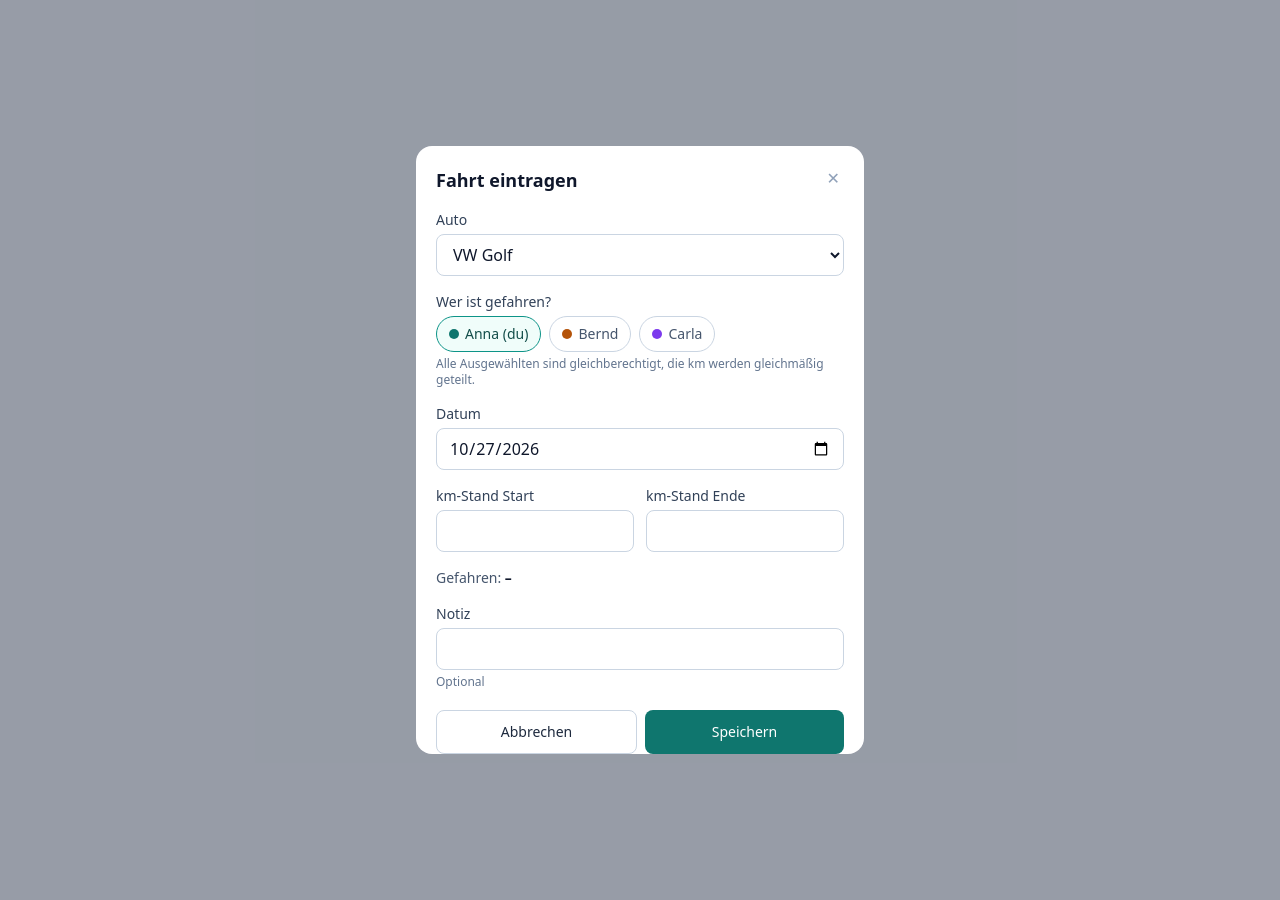
Test: adding a trip › refuses a trip without anyone on it
Click the button "Anna (du)".
click(489, 334)  # box [436, 316, 541, 352]
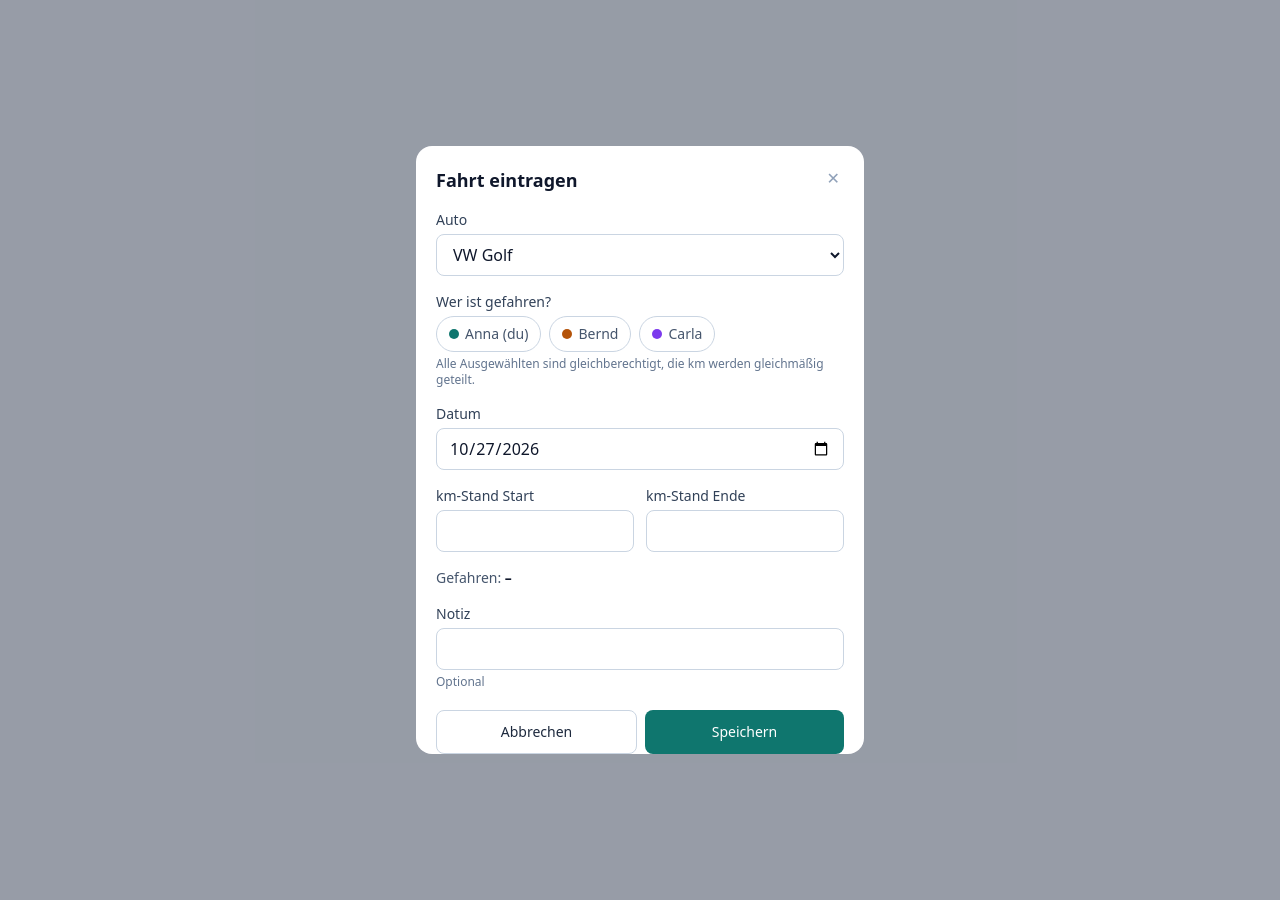
Type "10" into the number field labelled "km-Stand Start".
click(535, 531); type("10")  # box [436, 510, 634, 552]
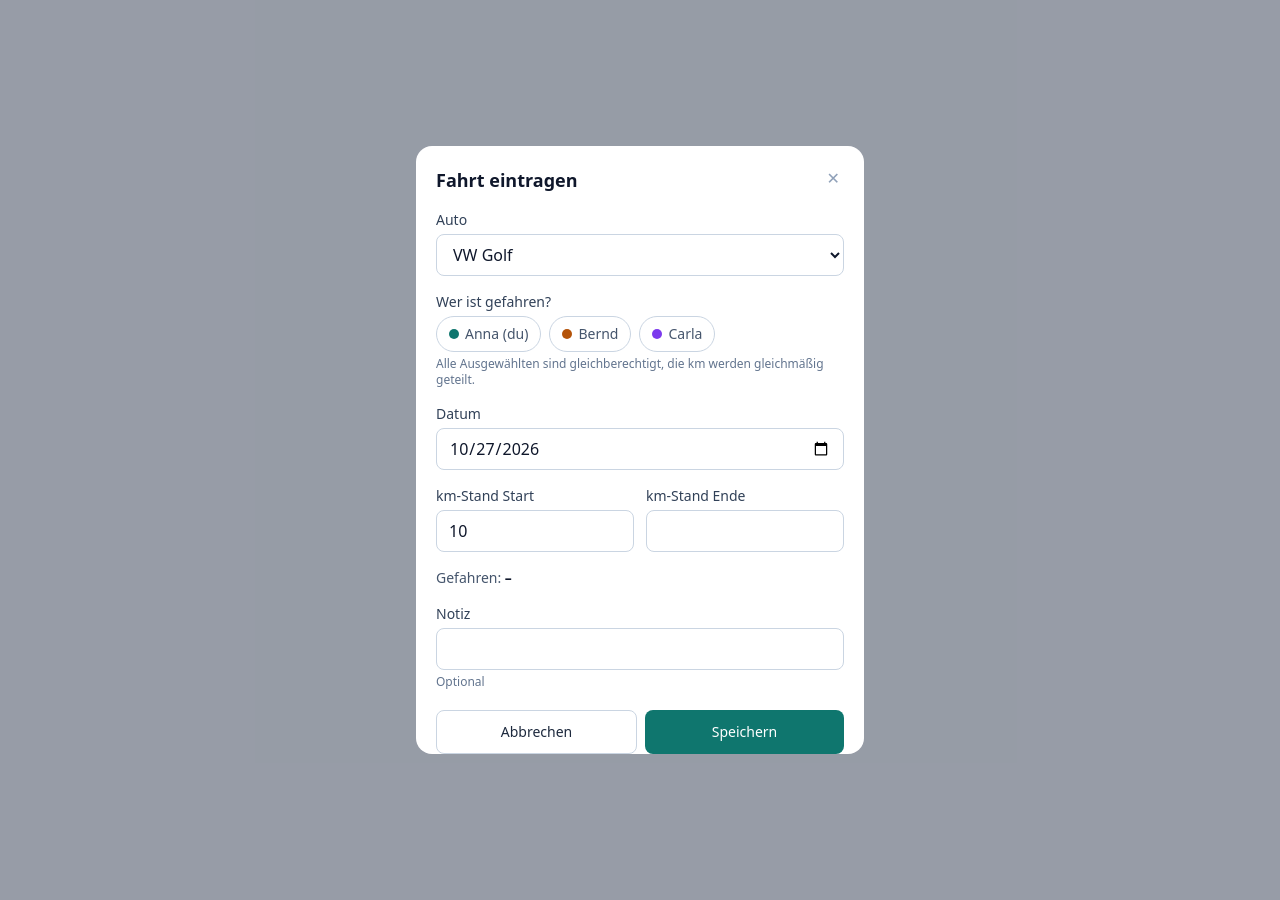
Type "20" into the number field labelled "km-Stand Ende".
click(745, 531); type("20")  # box [646, 510, 844, 552]
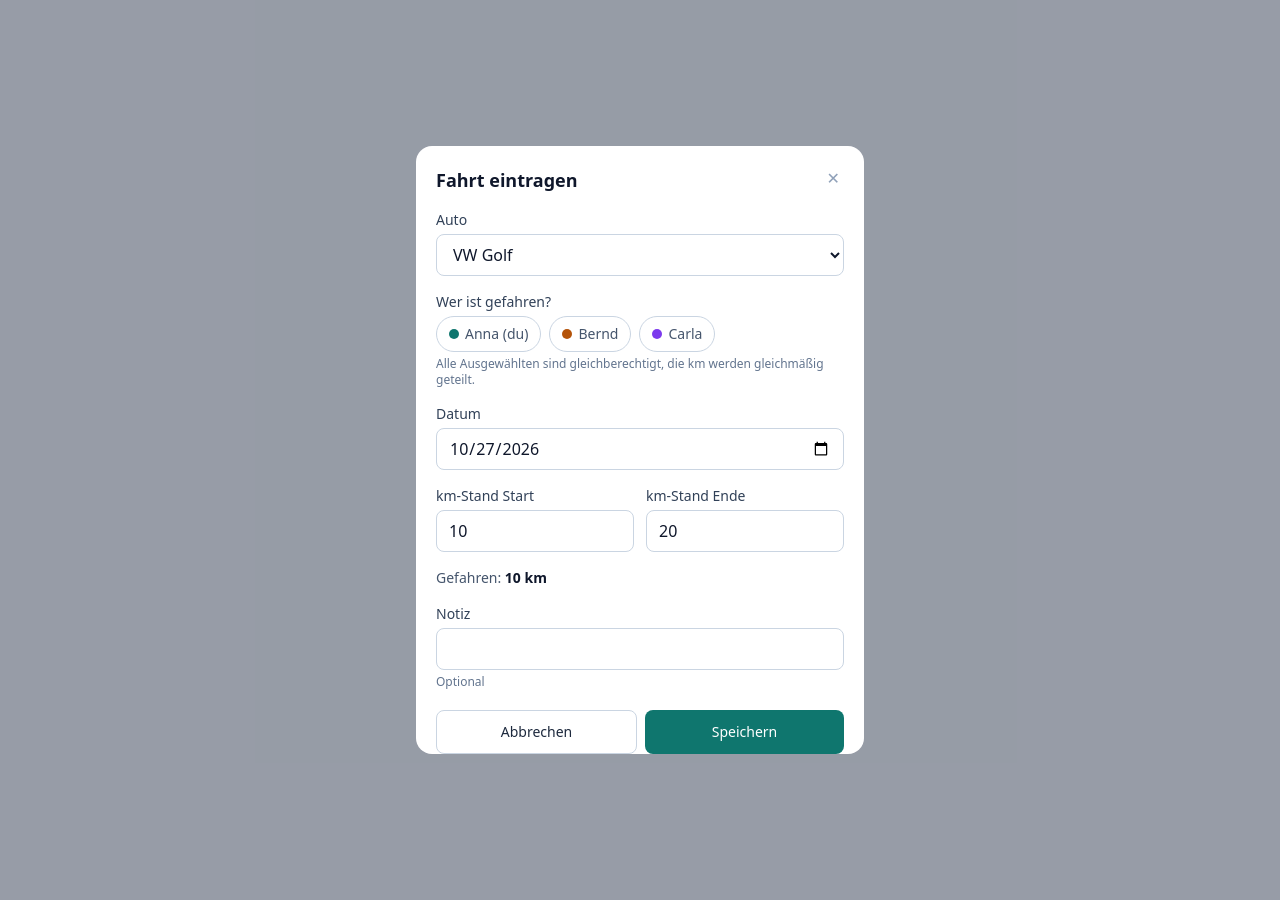
Click the button "Speichern".
click(744, 732)  # box [645, 710, 844, 754]
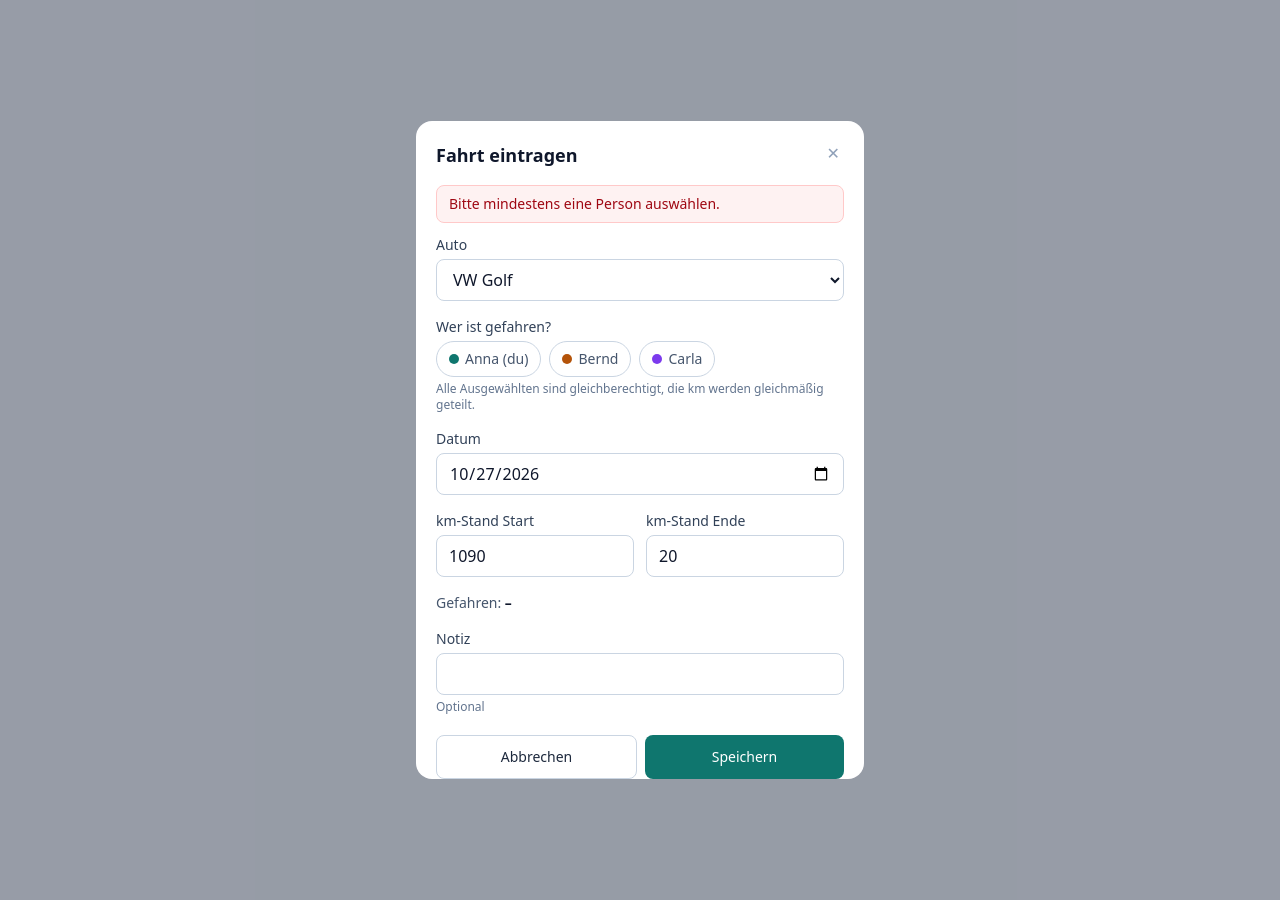
Result: the text "Bitte mindestens eine Person auswählen." is shown at [436, 185, 844, 223]
